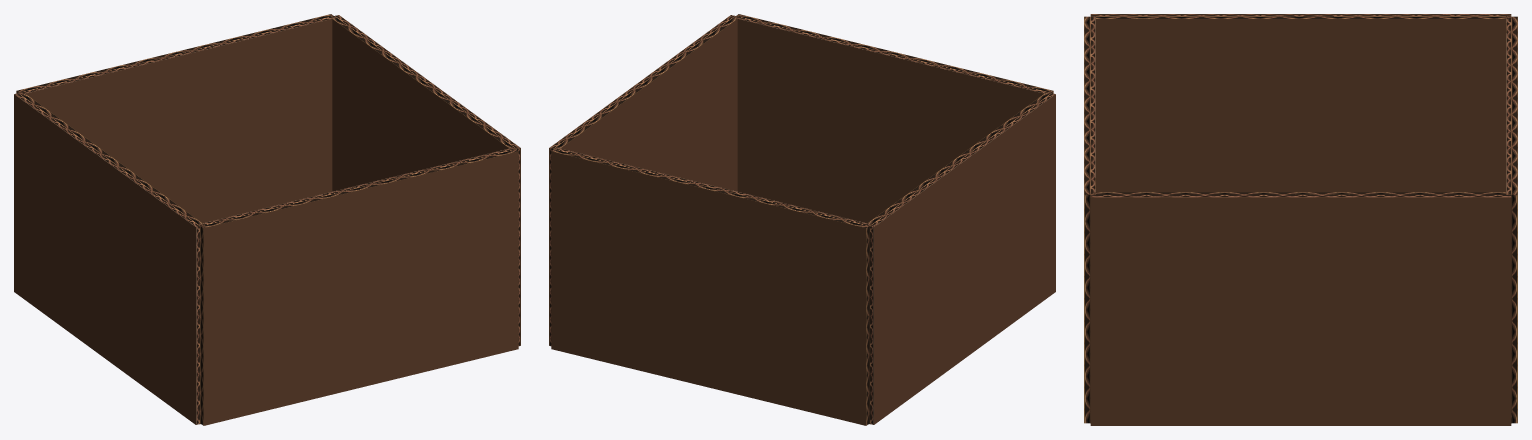
The model's file is RoomBase.fbx.
The picture shows the model from 3 angles, left to right: view 1: azimuth 30°, elevation 25°; view 2: azimuth 150°, elevation 25°; view 3: azimuth 270°, elevation 25°; orthographic projection. The views are drawn at different scales.
Visible parts, largest first — view 1: Cube.001, Cube.005, Cube.002, Cube.006; view 2: Cube.005, Cube.001, Cube.002, Cube.006; view 3: Cube.006, Cube.002, Cube.001, Cube.005.
Part boxes in pixels (box(x1,y1,x2,y2)): Cube.001: box(199, 148, 518, 425); Cube.005: box(16, 14, 335, 223); Cube.002: box(14, 92, 204, 424); Cube.006: box(332, 15, 520, 346); Cube.005: box(551, 147, 870, 425); Cube.001: box(734, 14, 1053, 223); Cube.002: box(866, 92, 1055, 424); Cube.006: box(549, 15, 739, 346); Cube.006: box(1090, 192, 1511, 425); Cube.002: box(1090, 14, 1511, 192); Cube.001: box(1084, 16, 1095, 423); Cube.005: box(1506, 16, 1517, 423).
Bounding box in the file's own units: 2058 × 1198 × 2058.
